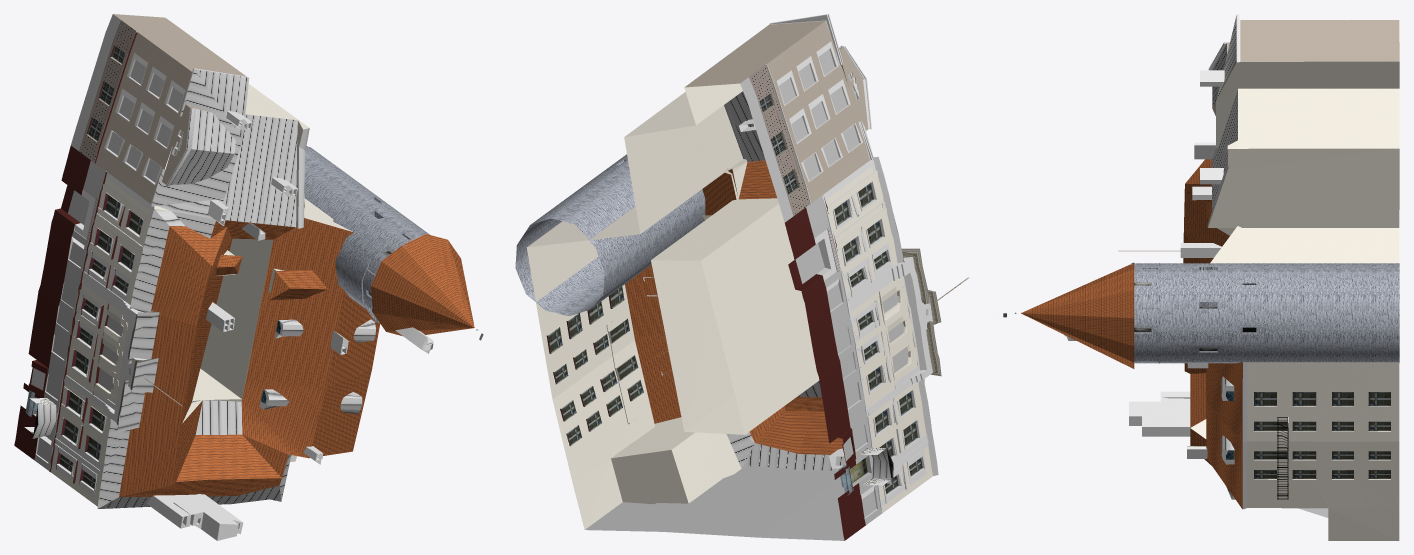
File: Pikk-68_1-origo.obj
The picture shows the model from 3 angles, left to right: view 1: azimuth 30°, elevation 25°; view 2: azimuth 150°, elevation 25°; view 3: azimuth 270°, elevation 25°; orthographic projection. The views are drawn at different scales.
Visible parts, largest first — view 1: Pikk_68; view 2: Pikk_68, xxx; view 3: Pikk_68.
Boxes of the visible parts, left/top/right/bottom form: Pikk_68: left=14, top=14, right=483, bottom=540; Pikk_68: left=515, top=14, right=969, bottom=540; xxx: left=585, top=466, right=844, bottom=540; Pikk_68: left=1003, top=14, right=1399, bottom=540.
Size of the model in its own units: 31.19 by 42 by 33.54.
